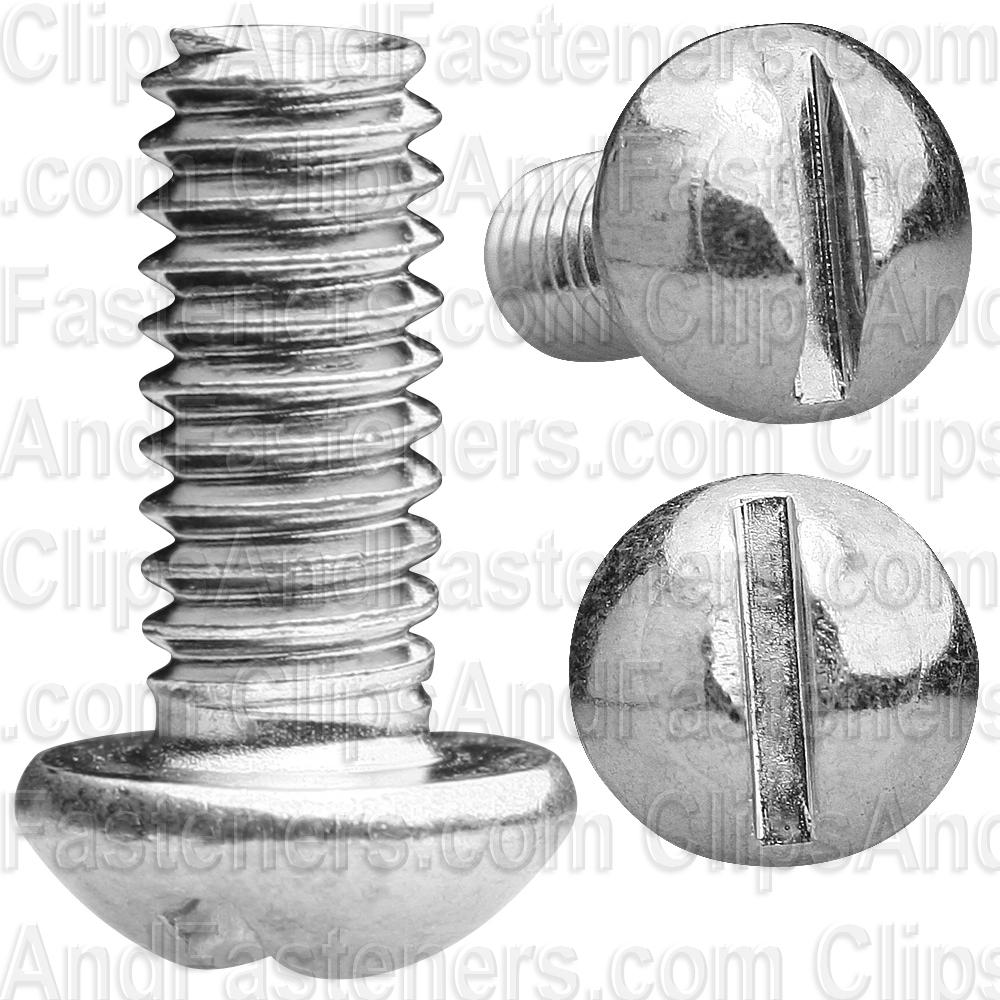screw: (572, 470, 976, 868), (590, 14, 971, 419)
